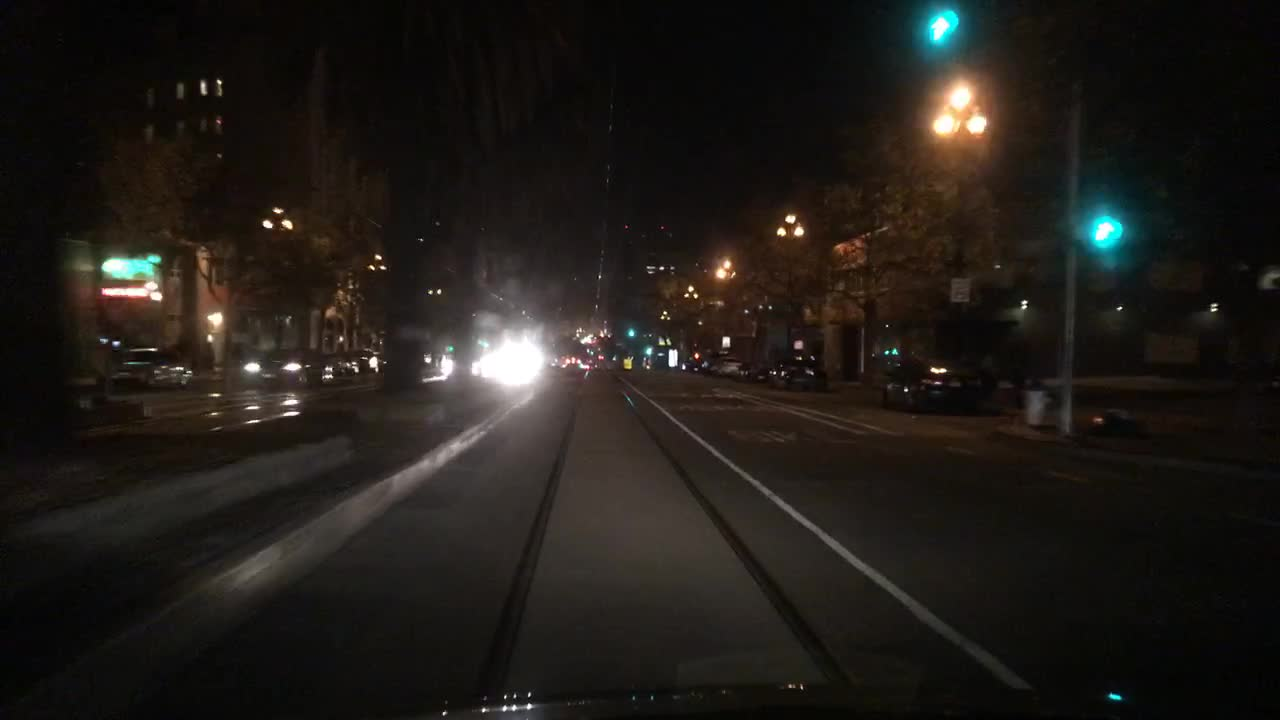car: (874, 337, 989, 410), (111, 344, 158, 386), (236, 353, 281, 390), (151, 361, 197, 392), (783, 359, 827, 391), (702, 354, 751, 381), (281, 354, 312, 385), (642, 341, 672, 372), (321, 357, 341, 381), (358, 347, 377, 370), (756, 365, 781, 382), (341, 352, 357, 374), (579, 355, 595, 372), (373, 352, 385, 374), (546, 354, 560, 369), (422, 350, 434, 367), (682, 359, 700, 370), (555, 352, 569, 365), (583, 343, 593, 357), (570, 348, 580, 362), (627, 322, 634, 342), (597, 348, 605, 362)
traffic light: (926, 8, 958, 54), (1093, 204, 1113, 263)
traffic sign: (948, 275, 968, 305), (720, 335, 731, 349), (791, 339, 805, 350)
